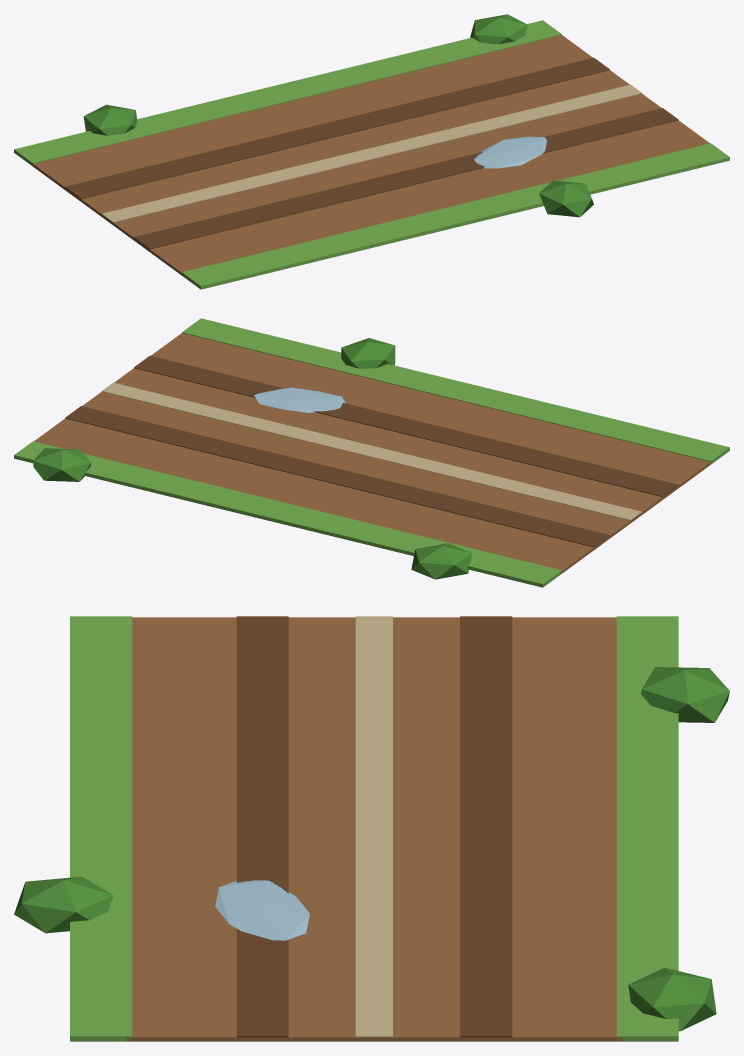
The model's file is track_dirt.glb.
3 views of the same model, one above another, from view 1: azimuth 30°, elevation 25°; view 2: azimuth 150°, elevation 25°; view 3: azimuth 270°, elevation 25° (orthographic). The views are drawn at different scales.
Parts seen in each view (by area): view 1: track_dirt; view 2: track_dirt; view 3: track_dirt.
Part boxes in pixels (x1,y1,x2,y2): track_dirt: [14, 14, 729, 289]; track_dirt: [14, 318, 729, 587]; track_dirt: [14, 616, 729, 1041].
Size of the model in its own units: 8 by 0.44 by 5.76.
